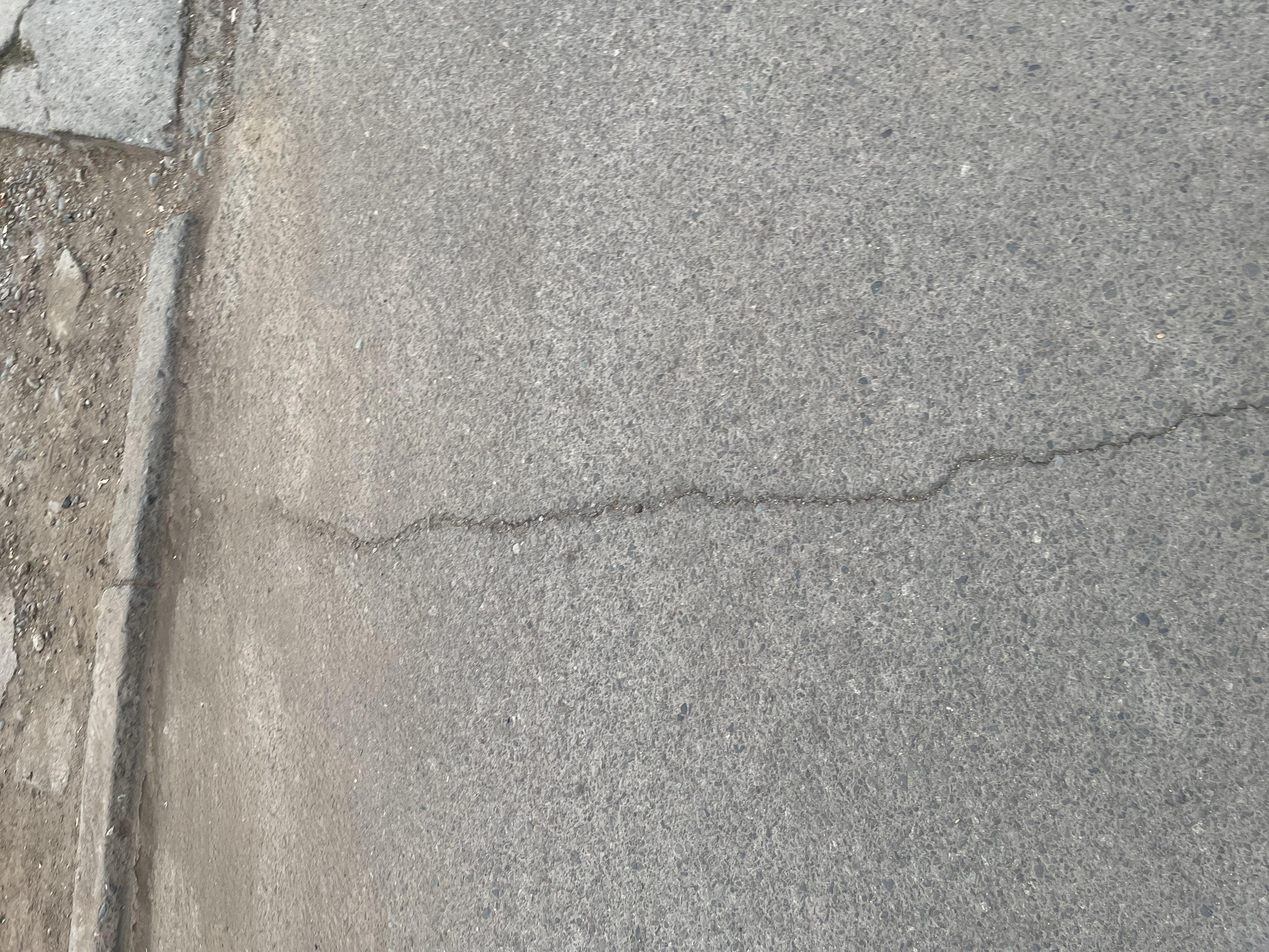GRIETA: (275, 400, 1269, 550)
